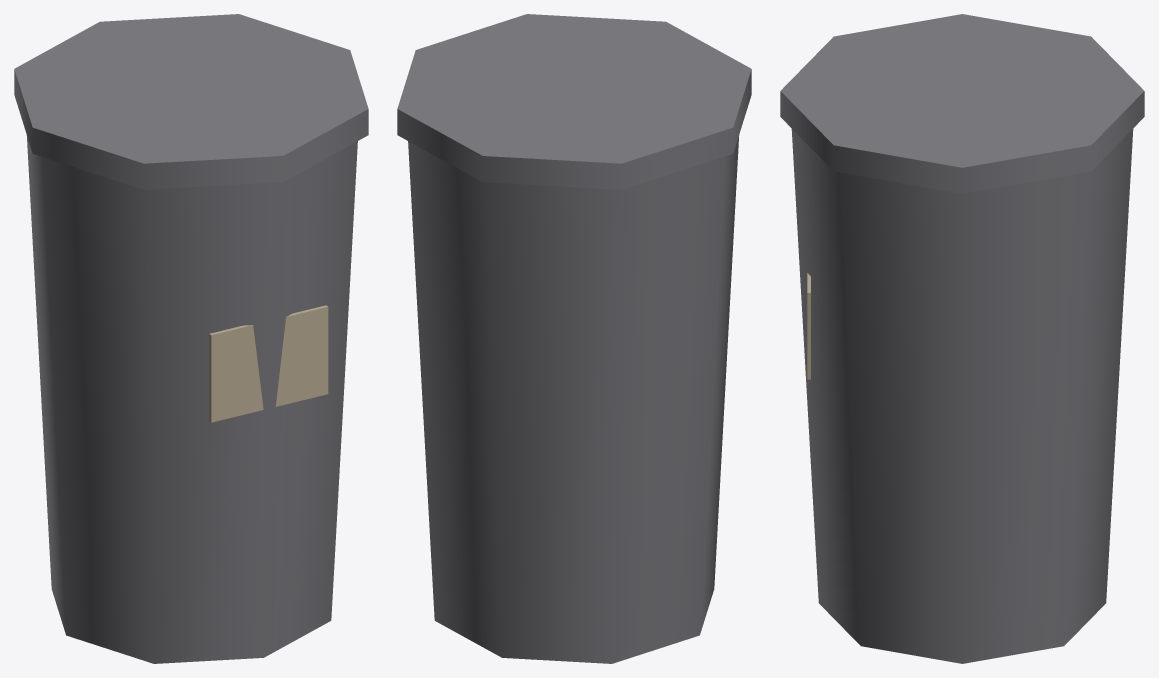
Rendered from PRP_P2_Trash_Bin_A.obj.
3 views of the same model, side by side, from view 1: azimuth 30°, elevation 25°; view 2: azimuth 150°, elevation 25°; view 3: azimuth 270°, elevation 25° (orthographic).
Visible parts, largest first — view 1: body, rim, label; view 2: body, rim; view 3: body, rim.
Part boxes in pixels (x1,y1,x2,y2): body: (26,135,357,663); rim: (14,14,368,189); label: (209,305,328,422); body: (408,135,739,663); rim: (397,14,751,189); body: (791,129,1133,663); rim: (780,14,1144,193).
Bounding box in the file's own units: 0.38 × 0.59 × 0.38.
